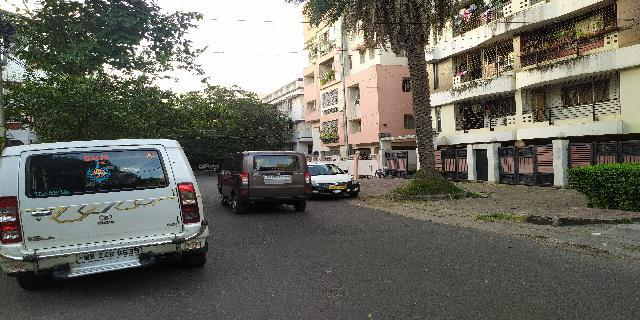Car: (2, 145, 211, 289), (217, 140, 313, 206), (304, 160, 363, 198)
